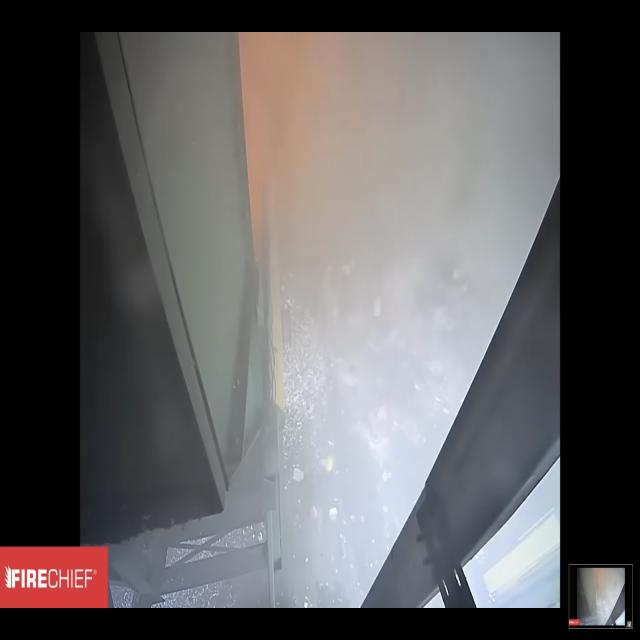Atencao: (148, 32, 562, 433)
